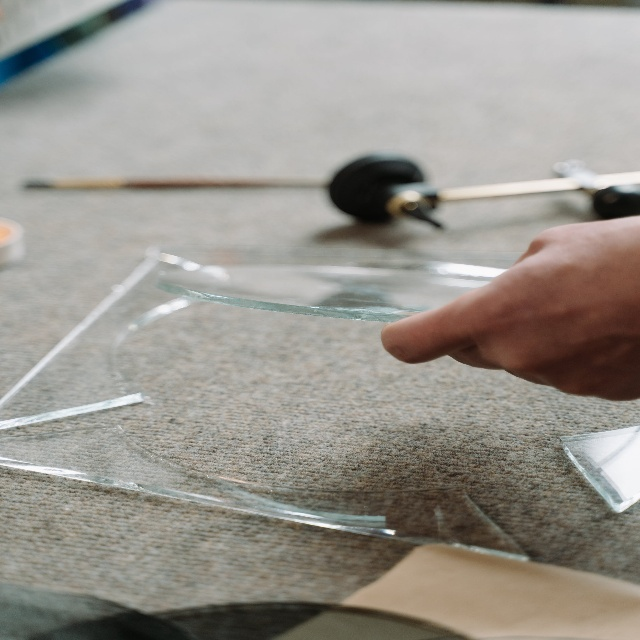Sin_guantes: (380, 215, 640, 401)
